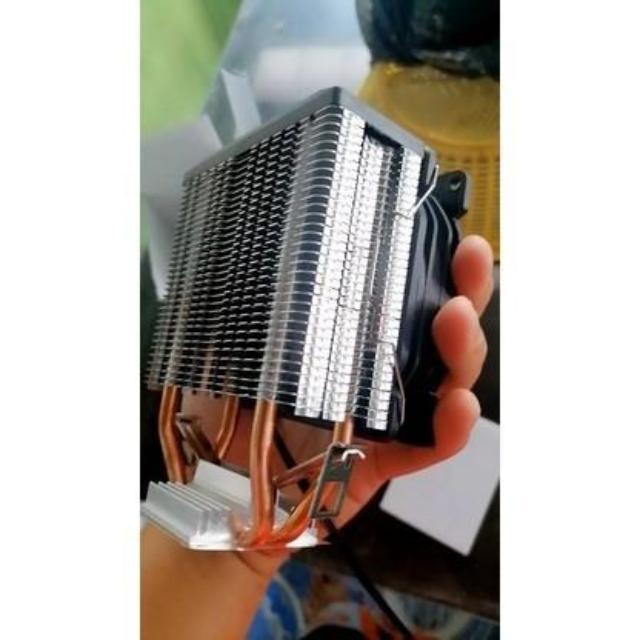CPU_Fan: (146, 86, 449, 549)
